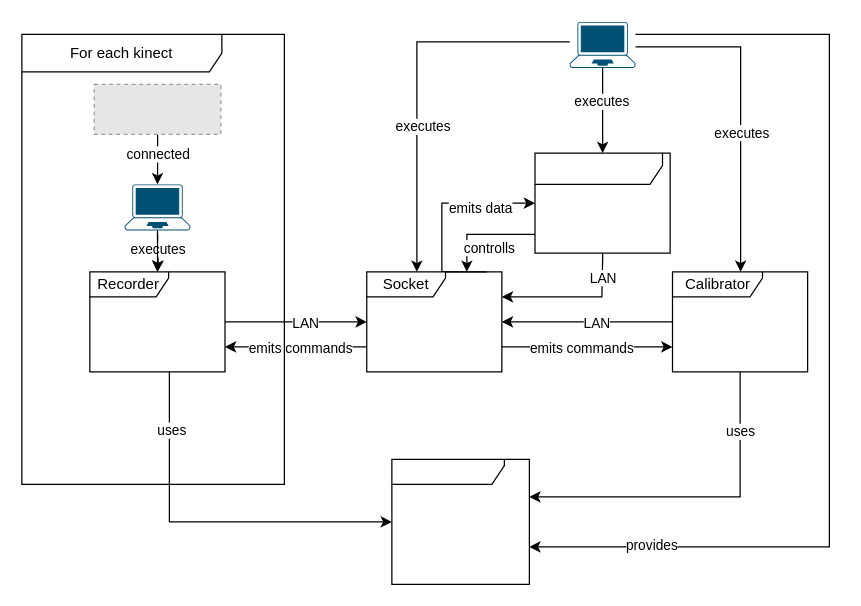
Image size: 861x606. Some labels were removed from this diagram. Grey dashed boxes stand in for pictures. The shapes that lost their labels are listed below. From the top down, each one's centre as x and y in pixels, then its label:
the point at 602,202: Operator Client
the point at 460,521: Shared Folder
